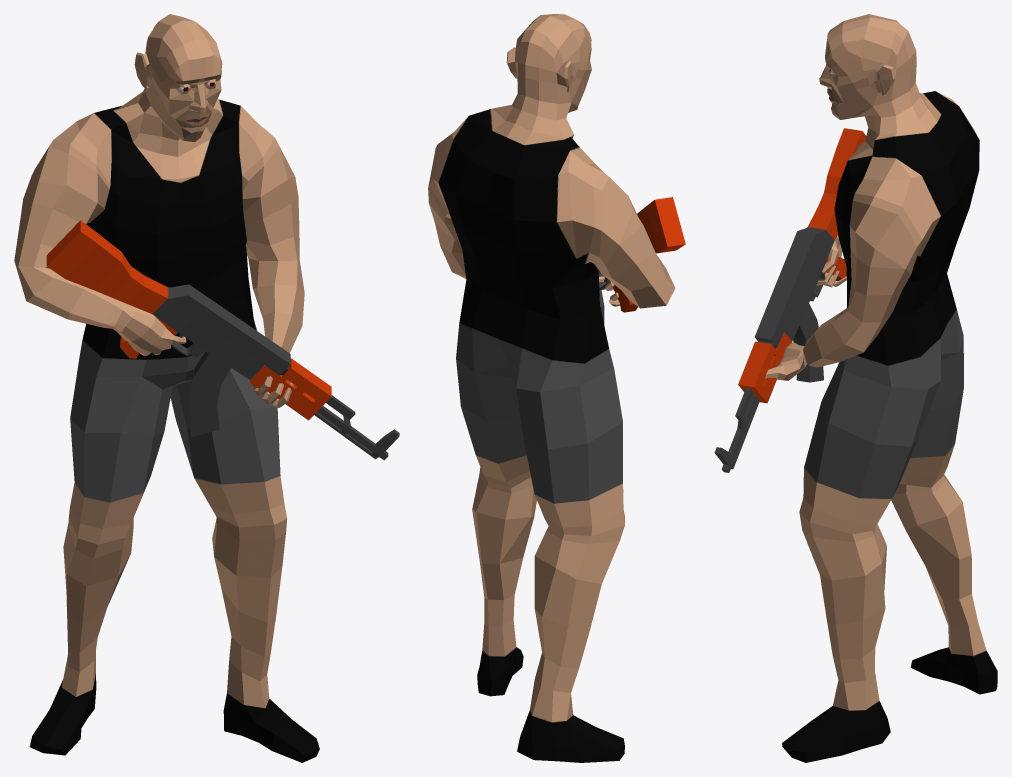
The model's file is PlayerIdle(77).obj.
The picture shows the model from 3 angles, left to right: view 1: azimuth 30°, elevation 25°; view 2: azimuth 150°, elevation 25°; view 3: azimuth 270°, elevation 25°; orthographic projection. The views are drawn at different scales.
Visible parts, largest first — view 1: Plane002, Object001; view 2: Plane002, Object001; view 3: Plane002, Object001.
Part boxes in pixels (bbox=[...]): Plane002: bbox=[14, 14, 319, 762]; Object001: bbox=[46, 220, 399, 460]; Plane002: bbox=[428, 14, 675, 762]; Object001: bbox=[598, 197, 685, 324]; Plane002: bbox=[765, 14, 997, 762]; Object001: bbox=[714, 128, 866, 472].
Bounding box in the file's own units: 728 × 1799 × 662.
